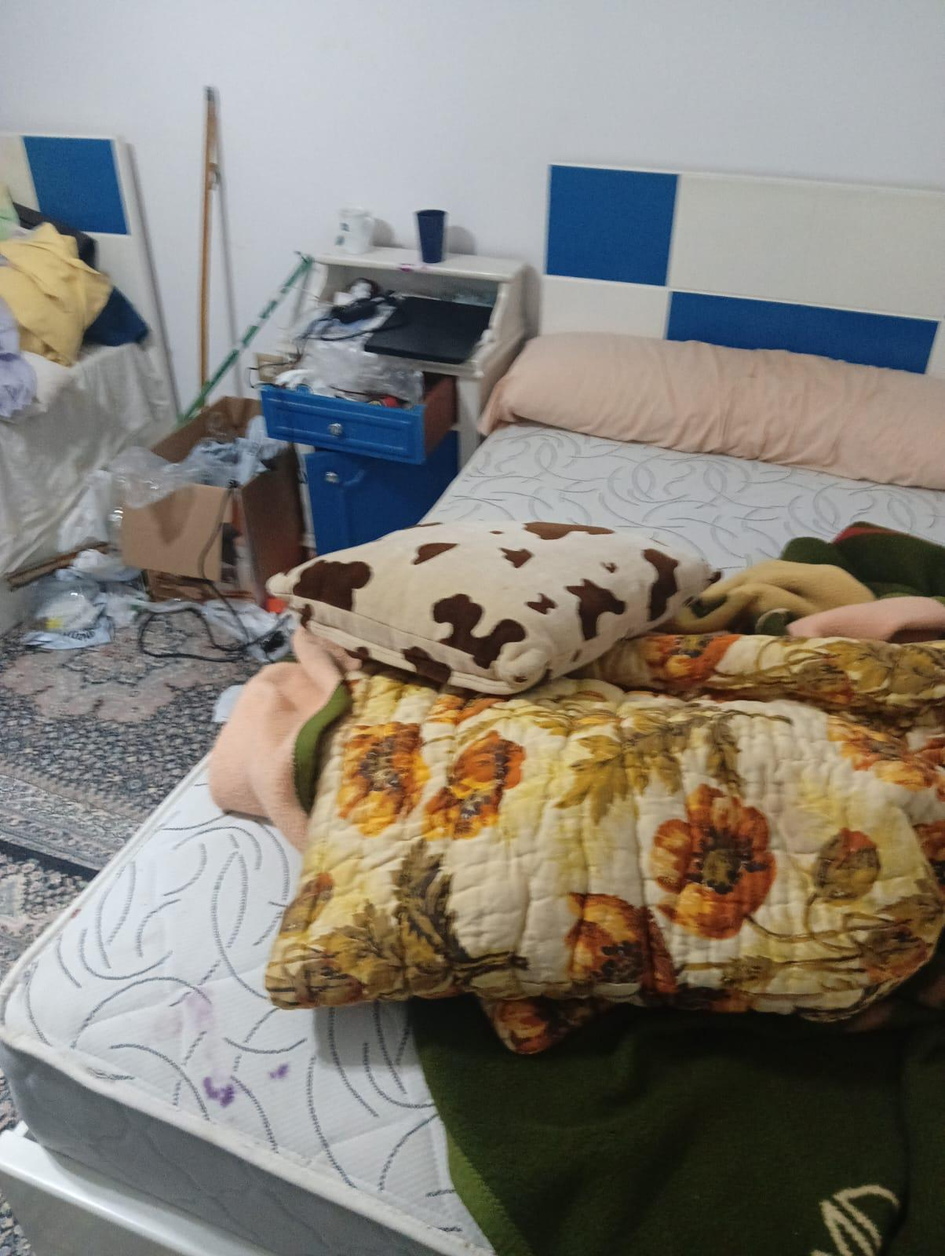cup: (415, 209, 447, 264), (336, 209, 374, 254)
